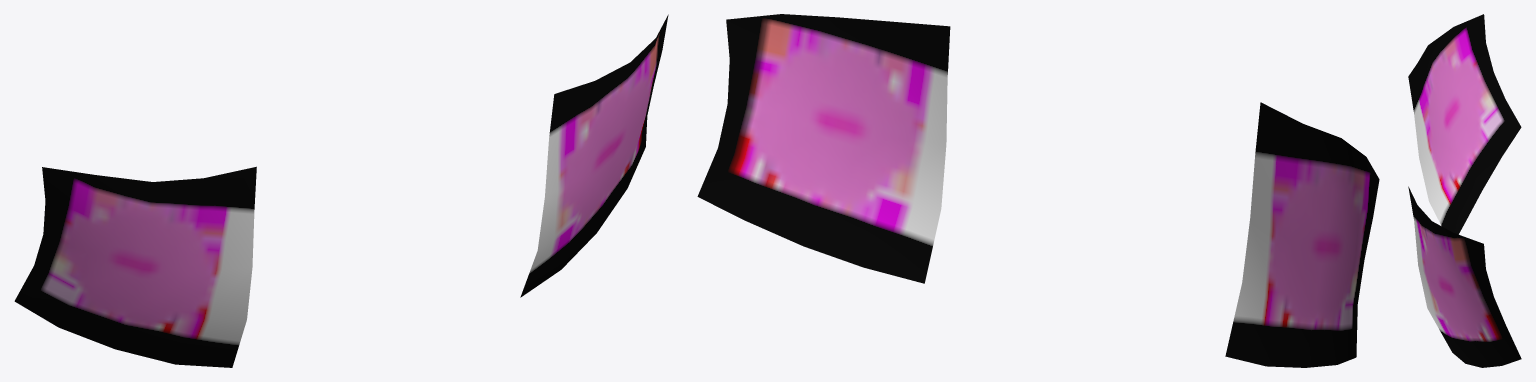
3 renders of one model, left to right at view 1: azimuth 30°, elevation 25°; view 2: azimuth 150°, elevation 25°; view 3: azimuth 270°, elevation 25°, orthographic. The views are drawn at different scales.
Visible parts, largest first — view 1: polySurface9; view 2: polySurface9; view 3: polySurface9.
Boxes of the visible parts, <box> form: polySurface9: <box>14,14,668,367</box>; polySurface9: <box>697,14,1379,367</box>; polySurface9: <box>1408,14,1521,367</box>.
Size of the model in its own units: 0.587 by 0.2019 by 0.1214.
1 material, 1 textured.
